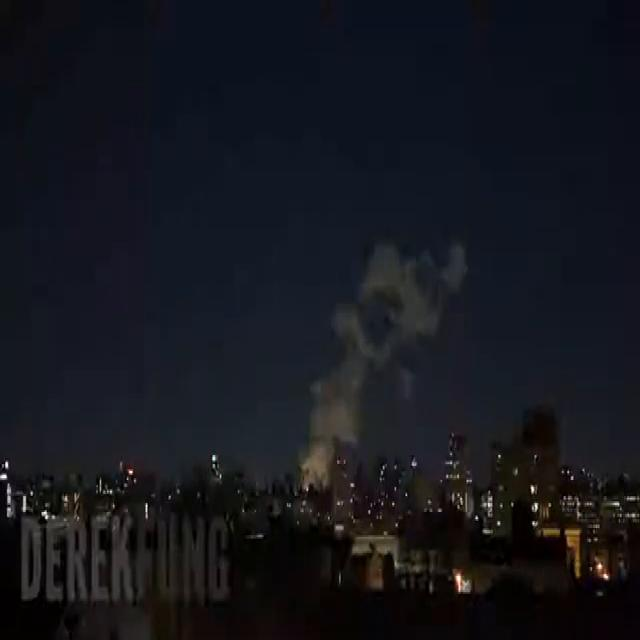smoke: (308, 242, 466, 450)
